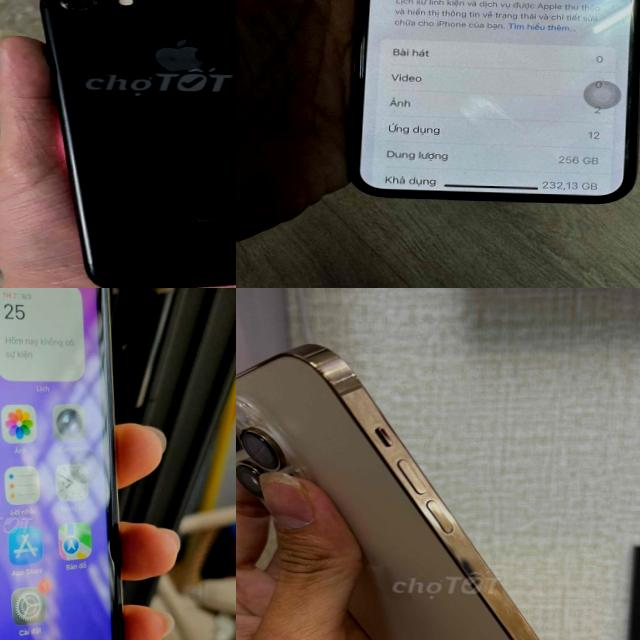gen_11: (0, 288, 138, 640)
gen_14: (236, 337, 621, 640)
gen_7_8: (31, 0, 236, 288)
gen_x_xs: (344, 0, 640, 205)
scratch: (474, 564, 596, 640), (60, 0, 102, 9)
